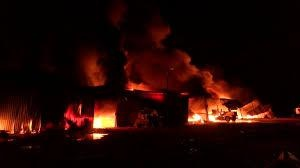fire: (186, 95, 270, 124)
